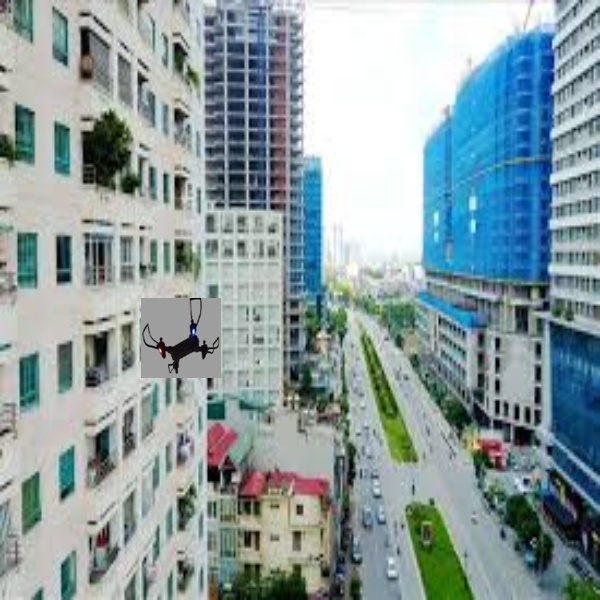drone: (141, 294, 222, 376)
